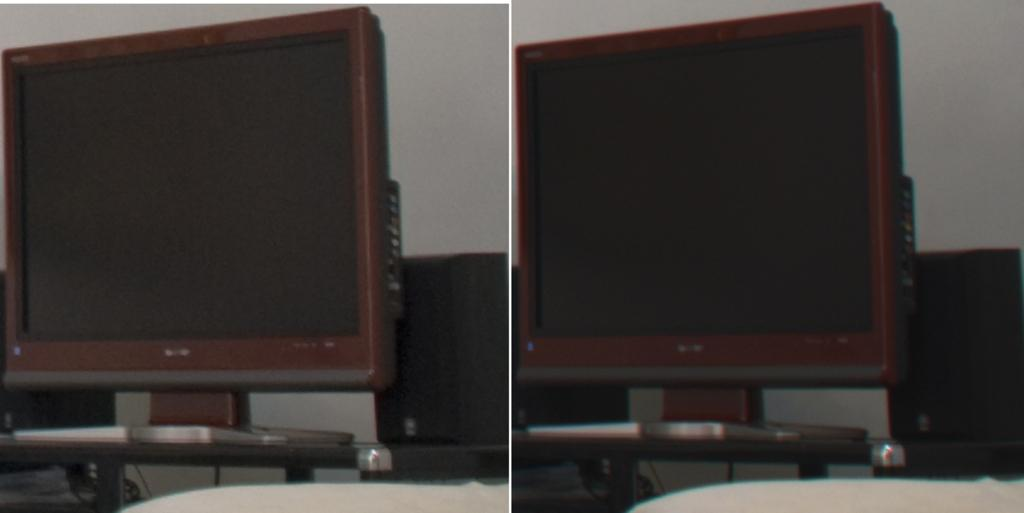Computer-monitor: (508, 33, 927, 463), (0, 8, 401, 432)
